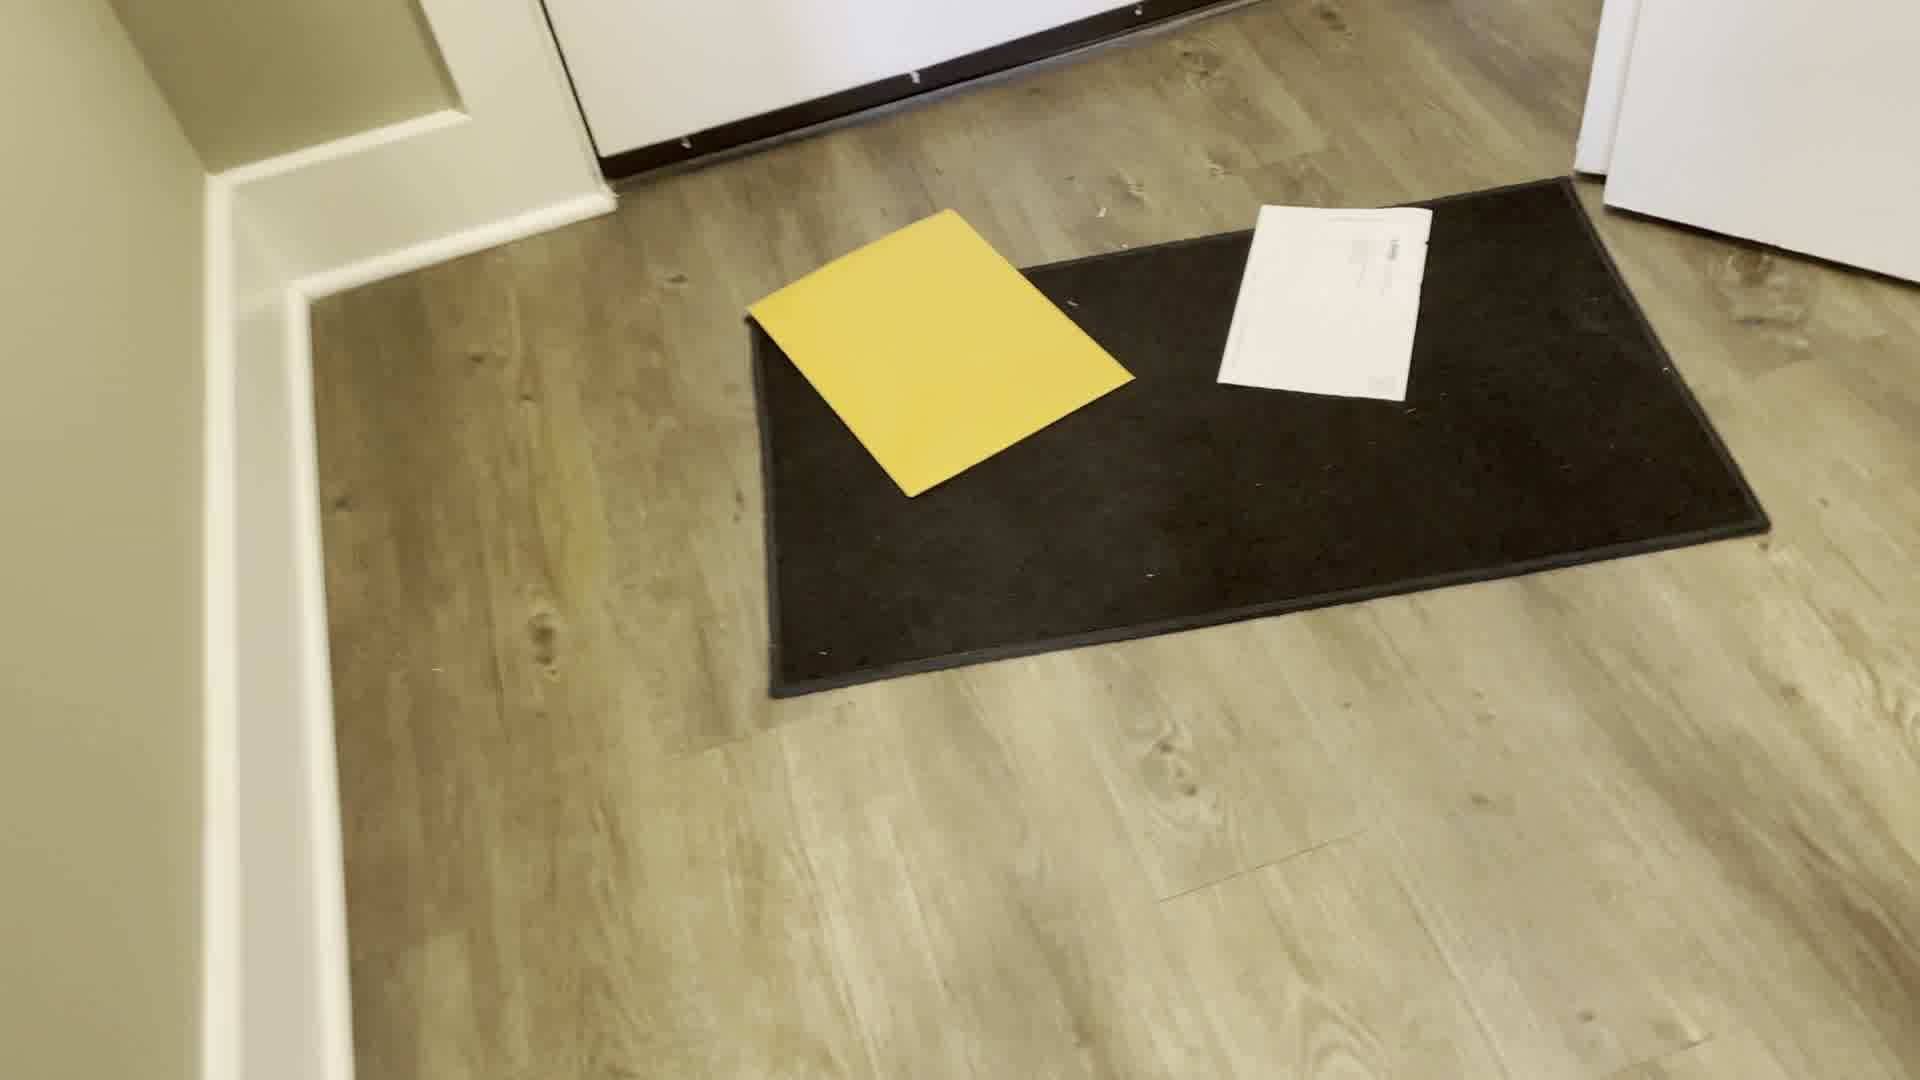envelope: (745, 194, 1131, 498), (1211, 196, 1440, 406)
